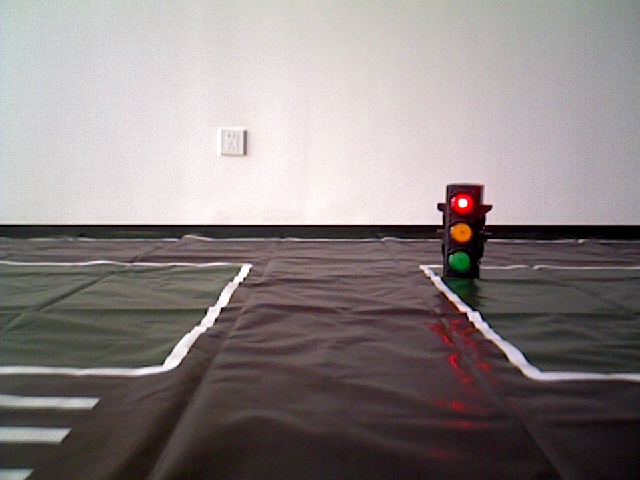red: (446, 184, 478, 281)
